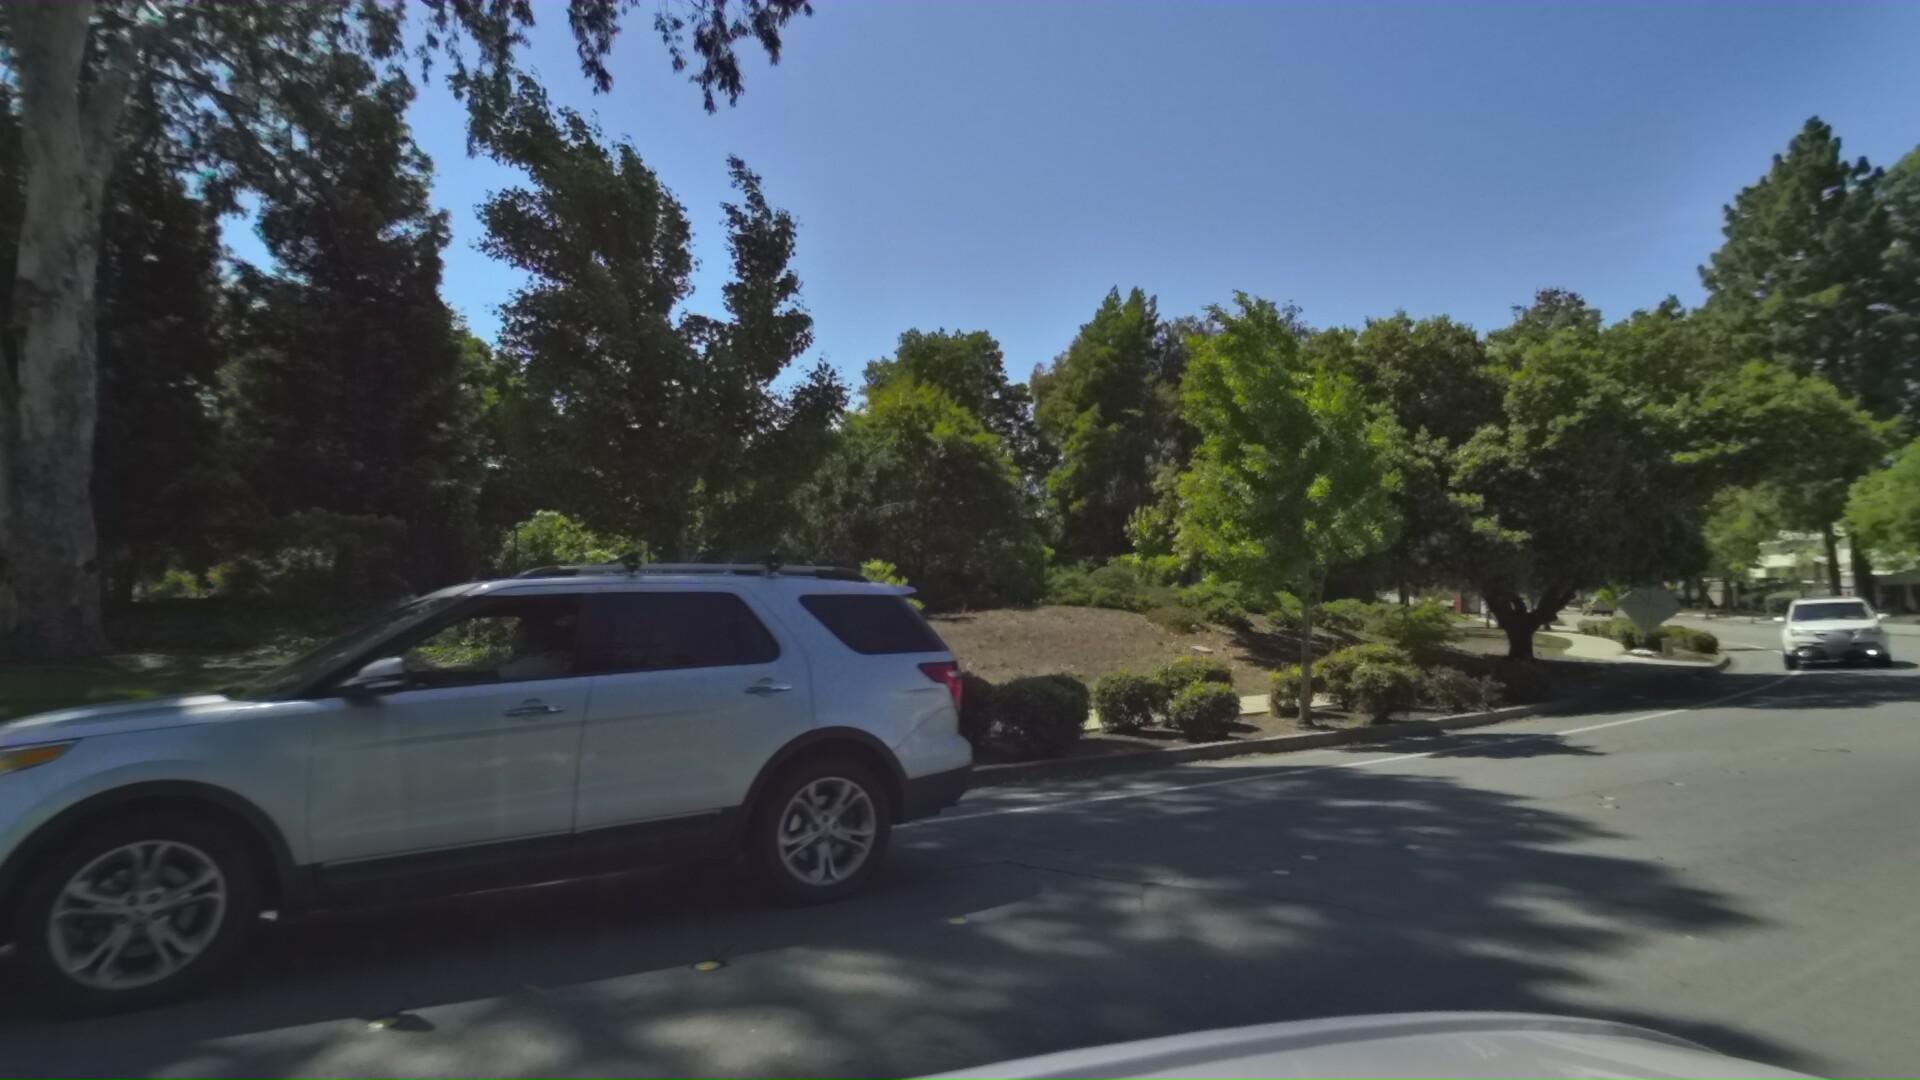car: (0, 522, 894, 1080), (1768, 585, 1888, 676)
